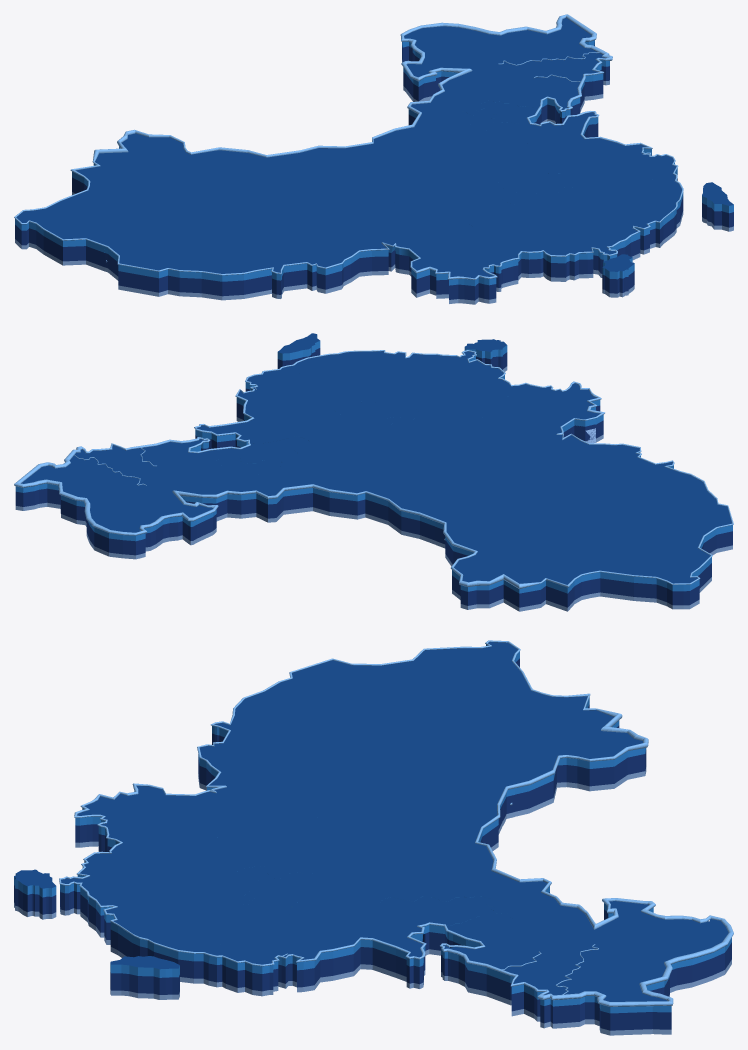
The model's file is map_cn10.glb.
The picture shows the model from 3 angles, top to bottom: view 1: azimuth 30°, elevation 25°; view 2: azimuth 150°, elevation 25°; view 3: azimuth 270°, elevation 25°; orthographic projection. The views are drawn at different scales.
Parts seen in each view (by area): view 1: xizang, xinjiang, neimenggu, yunnan, qinghai, pCylinder1, sichuan, gansu, guangxi, heilongjiang, guangdong, jiling (+18 smaller); view 2: xinjiang, neimenggu, xizang, pCylinder1, qinghai, heilongjiang, sichuan, yunnan, gansu, guangxi, hunan, shandong (+18 smaller); view 3: xinjiang, xizang, neimenggu, heilongjiang, qinghai, pCylinder1, sichuan, gansu, yunnan, guangdong, jiling, shandong (+19 smaller).
Part boxes in pixels (bbox=[...]): xizang: bbox=[104, 212, 395, 300]; xinjiang: bbox=[15, 133, 269, 271]; neimenggu: bbox=[280, 30, 538, 170]; yunnan: bbox=[392, 223, 532, 304]; qinghai: bbox=[226, 174, 395, 231]; pCylinder1: bbox=[14, 14, 683, 279]; sichuan: bbox=[343, 189, 496, 246]; gansu: bbox=[243, 155, 460, 202]; guangxi: bbox=[501, 215, 603, 281]; heilongjiang: bbox=[410, 18, 597, 64]; guangdong: bbox=[595, 204, 674, 277]; jiling: bbox=[488, 53, 609, 108]; xinjiang: bbox=[445, 504, 711, 611]; neimenggu: bbox=[96, 461, 443, 559]; xizang: bbox=[526, 435, 732, 554]; pCylinder1: bbox=[14, 350, 733, 589]; qinghai: bbox=[431, 452, 600, 518]; heilongjiang: bbox=[15, 455, 145, 558]; sichuan: bbox=[400, 409, 547, 471]; yunnan: bbox=[474, 383, 603, 443]; gansu: bbox=[367, 440, 510, 548]; guangxi: bbox=[413, 360, 512, 396]; hunan: bbox=[357, 372, 437, 411]; shandong: bbox=[195, 418, 304, 448]; xinjiang: bbox=[384, 642, 646, 816]; xizang: bbox=[198, 660, 401, 798]; neimenggu: bbox=[400, 795, 724, 953]; heilongjiang: bbox=[558, 924, 731, 1035]; qinghai: bbox=[289, 736, 441, 827]; pCylinder1: bbox=[59, 640, 733, 1006]; sichuan: bbox=[174, 788, 336, 867]; gansu: bbox=[302, 763, 514, 866]; yunnan: bbox=[75, 786, 234, 852]; guangdong: bbox=[60, 878, 168, 957]; jiling: bbox=[497, 937, 597, 1028]; shandong: bbox=[348, 908, 425, 988].
Bounding box in the file's own units: 419 × 18.44 × 349.
